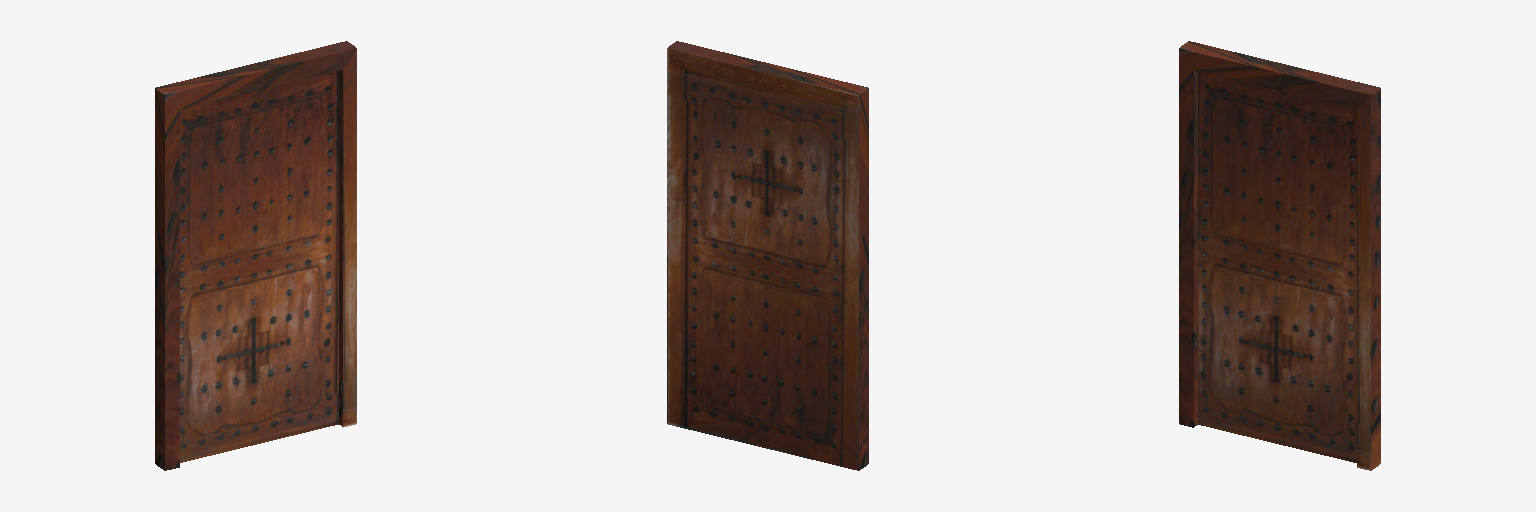
The picture shows the model from 3 angles: view 1: azimuth 30°, elevation 25°; view 2: azimuth 150°, elevation 25°; view 3: azimuth 330°, elevation 25°; orthographic projection.
Visible parts, largest first — view 1: door; view 2: door; view 3: door.
Part boxes in pixels (left/top/right/bottom): door: left=155, top=41, right=356, bottom=470; door: left=667, top=41, right=868, bottom=470; door: left=1179, top=41, right=1380, bottom=470.
Bounding box in the file's own units: 45.47 × 84.83 × 4.15.
2 materials, 1 textured.